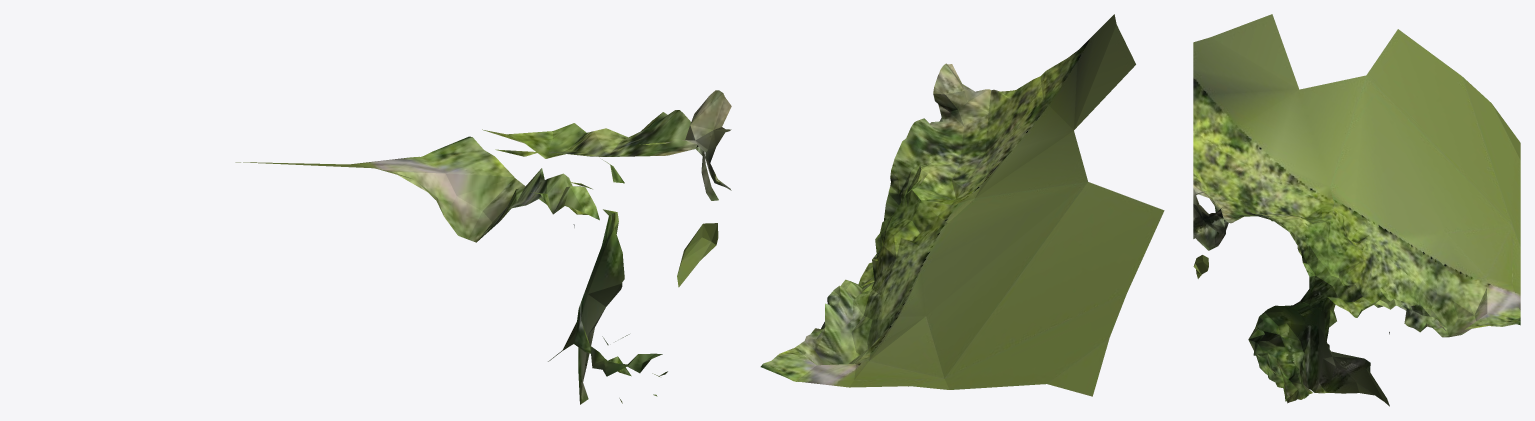
3 views of the same model, side by side, from view 1: azimuth 30°, elevation 25°; view 2: azimuth 150°, elevation 25°; view 3: azimuth 270°, elevation 25° (orthographic). The views are drawn at different scales.
Size of the model in its own units: 26.11 by 26.11 by 26.11.
3 materials, 3 textured.
